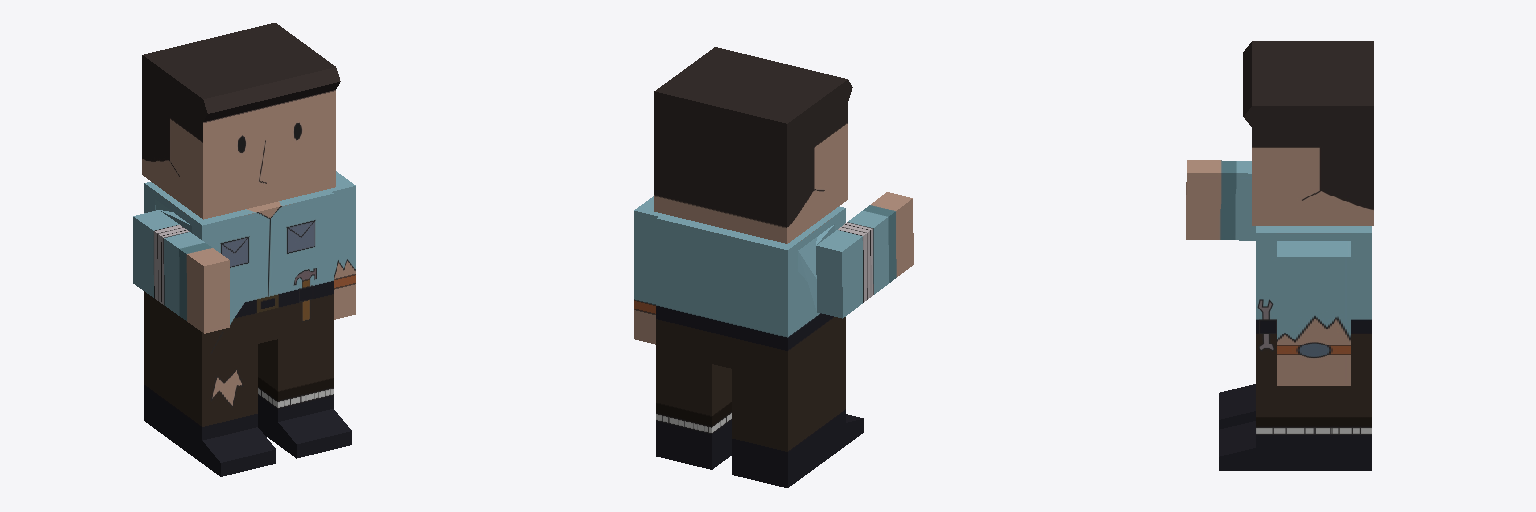
3 renders of one model, left to right at view 1: azimuth 30°, elevation 25°; view 2: azimuth 150°, elevation 25°; view 3: azimuth 270°, elevation 25°, orthographic.
Visible parts, largest first — view 1: character_box_01.001; view 2: character_box_01.001; view 3: character_box_01.001.
Part boxes in pixels (x1,y1,x2,y2): character_box_01.001: (133,23,355,476); character_box_01.001: (634,47,913,487); character_box_01.001: (1186,41,1373,470).
Bounding box in the file's own units: 0.4773 × 0.8453 × 0.3946.
1 materials, 1 textured.